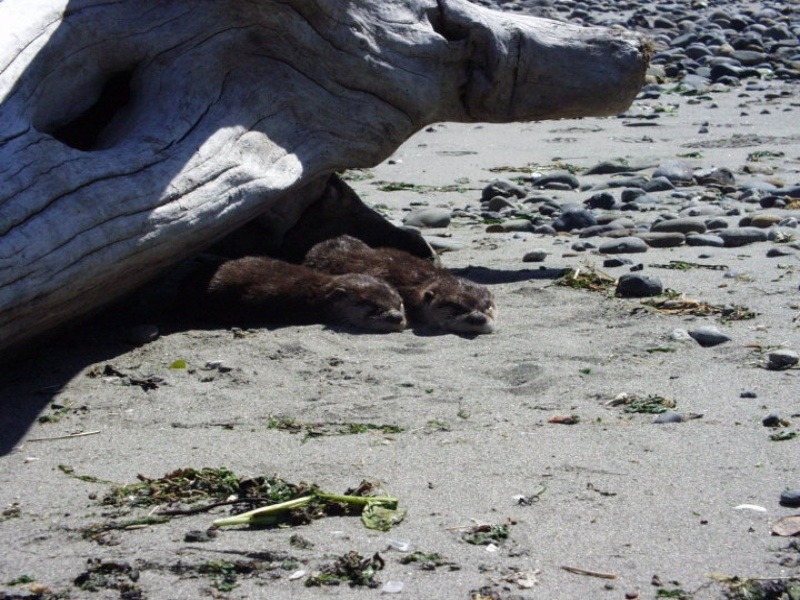minkish: (297, 220, 504, 338), (155, 245, 411, 335)
